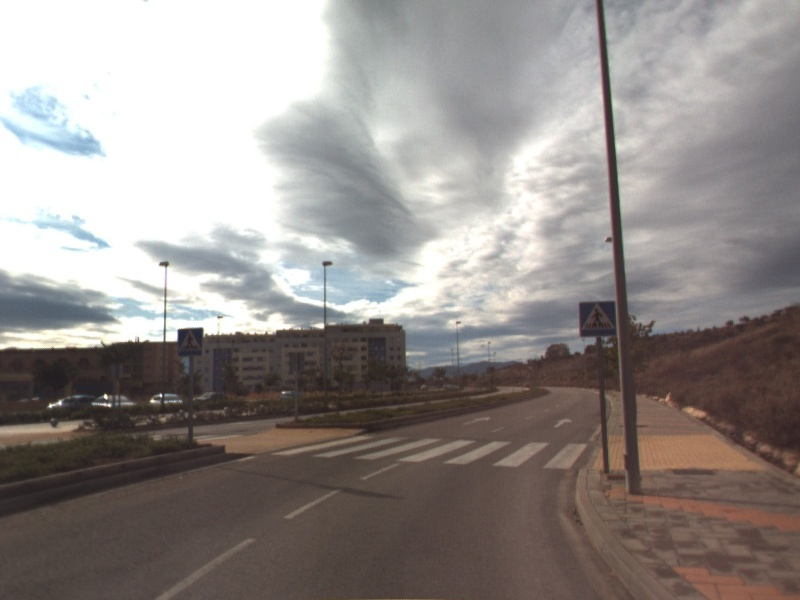STRAIGHT: (460, 414, 493, 427), (551, 416, 574, 430)
